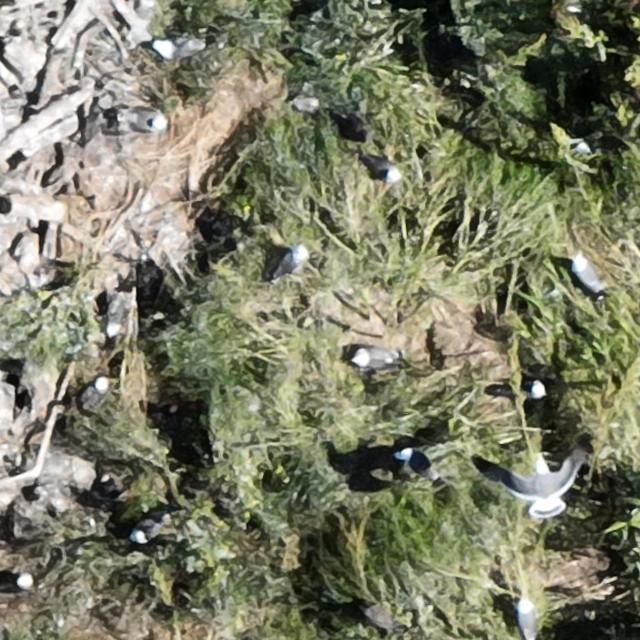F: (504, 454, 582, 521)
umineko: (572, 254, 604, 298), (147, 38, 208, 58), (394, 447, 432, 478), (274, 246, 307, 278), (106, 295, 126, 340), (366, 156, 399, 182), (354, 347, 396, 367), (503, 379, 544, 399), (516, 600, 536, 639), (126, 112, 160, 132), (131, 519, 161, 540), (87, 375, 108, 397), (10, 572, 32, 591)
